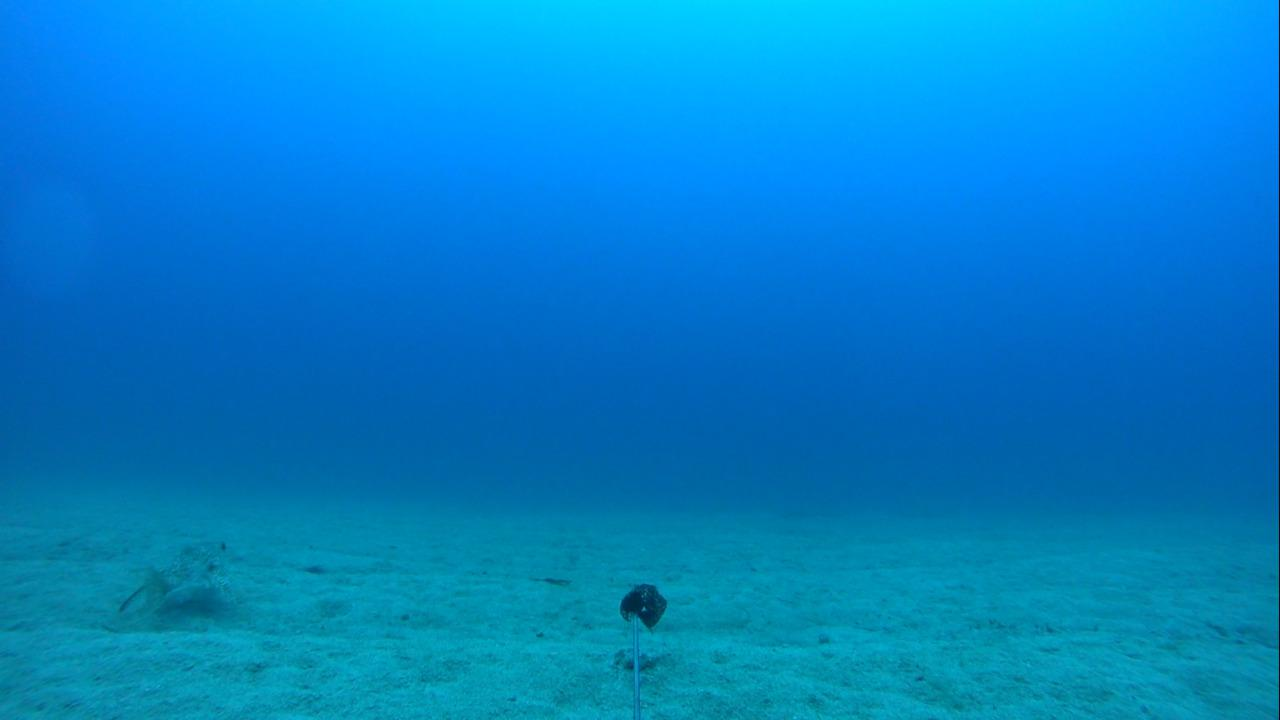dactylopterus: (99, 533, 258, 624)
